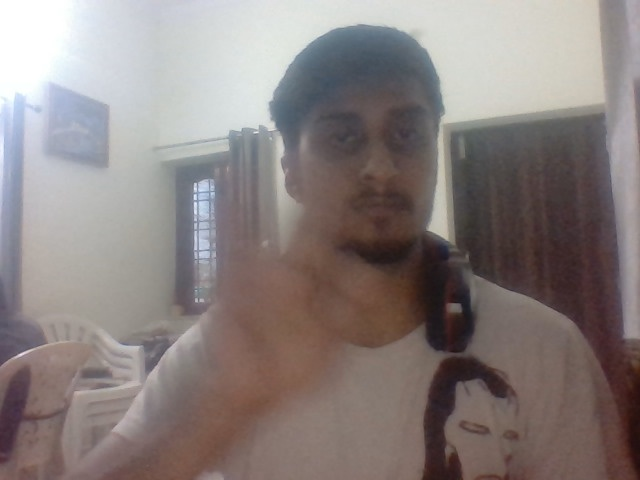LiveLong: (195, 155, 364, 402)
